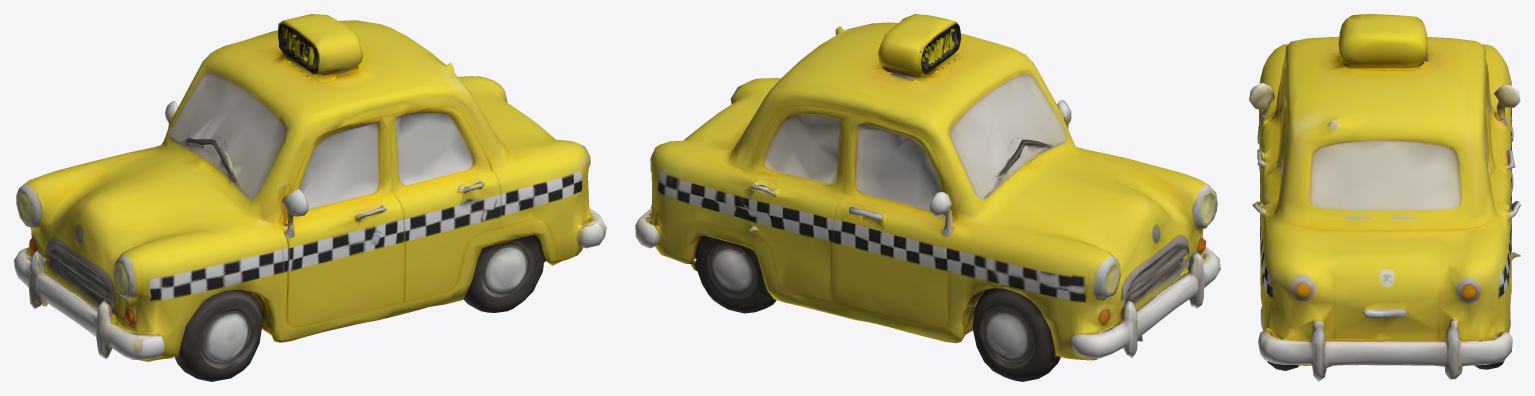
File: taxi.glb
The picture shows the model from 3 angles, left to right: view 1: azimuth 30°, elevation 25°; view 2: azimuth 150°, elevation 25°; view 3: azimuth 270°, elevation 25°; orthographic projection.
Size of the model in its own units: 65254 by 35619 by 31443.
Materials: 1 (1 with a texture image).
